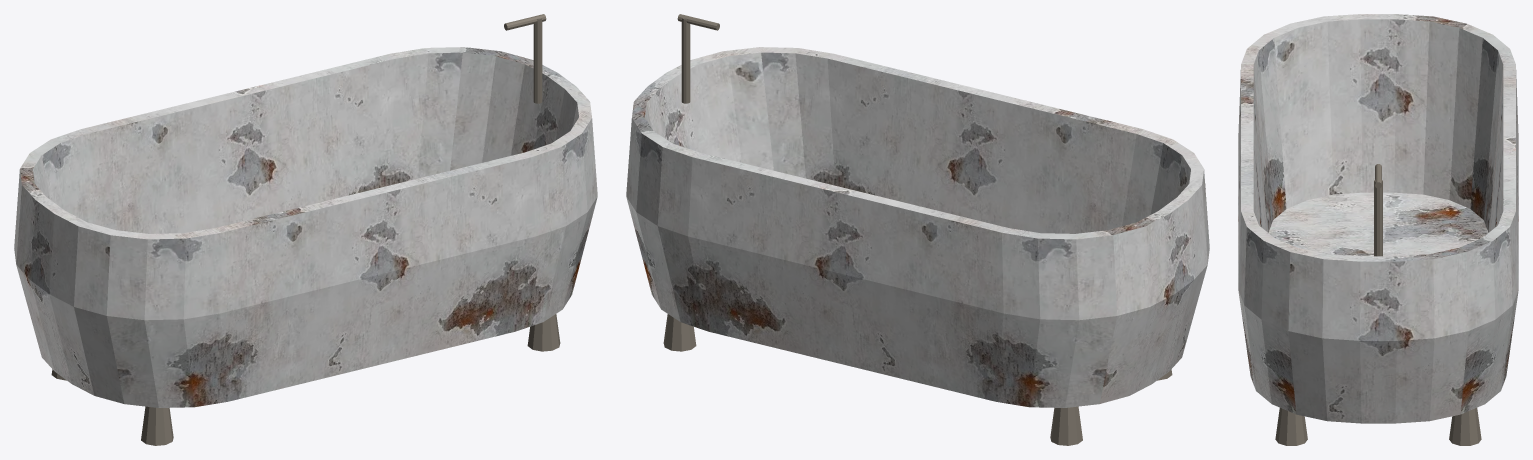
File: bathtub.glb
The picture shows the model from 3 angles, left to right: view 1: azimuth 30°, elevation 25°; view 2: azimuth 150°, elevation 25°; view 3: azimuth 270°, elevation 25°; orthographic projection. The views are drawn at different scales.
Parts seen in each view (by area): view 1: Tub, Fittings; view 2: Tub, Fittings; view 3: Tub, Fittings.
Part boxes in pixels (x1,y1,x2,y2): Tub: (14,47,597,407); Fittings: (51,14,560,445); Tub: (626,47,1209,407); Fittings: (663,14,1172,445); Tub: (1238,14,1518,423); Fittings: (1275,164,1481,445).
Bounding box in the file's own units: 1.65 × 0.8495 × 0.7752.
2 materials, 1 textured.
